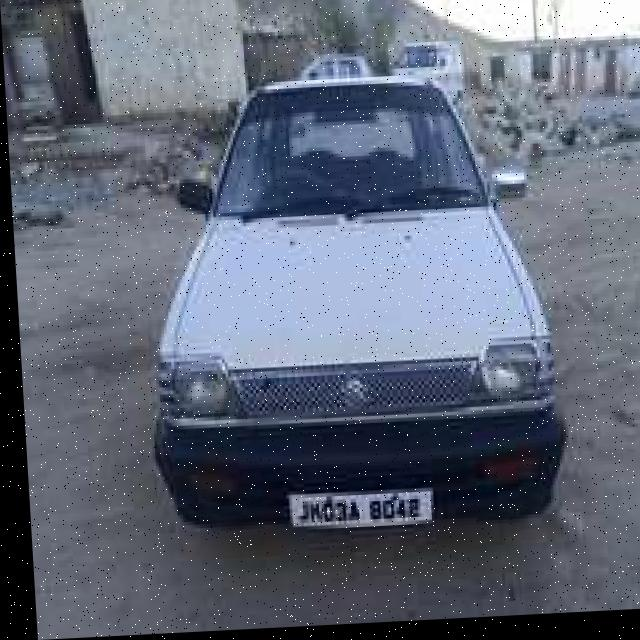plate: (283, 491, 426, 534)
